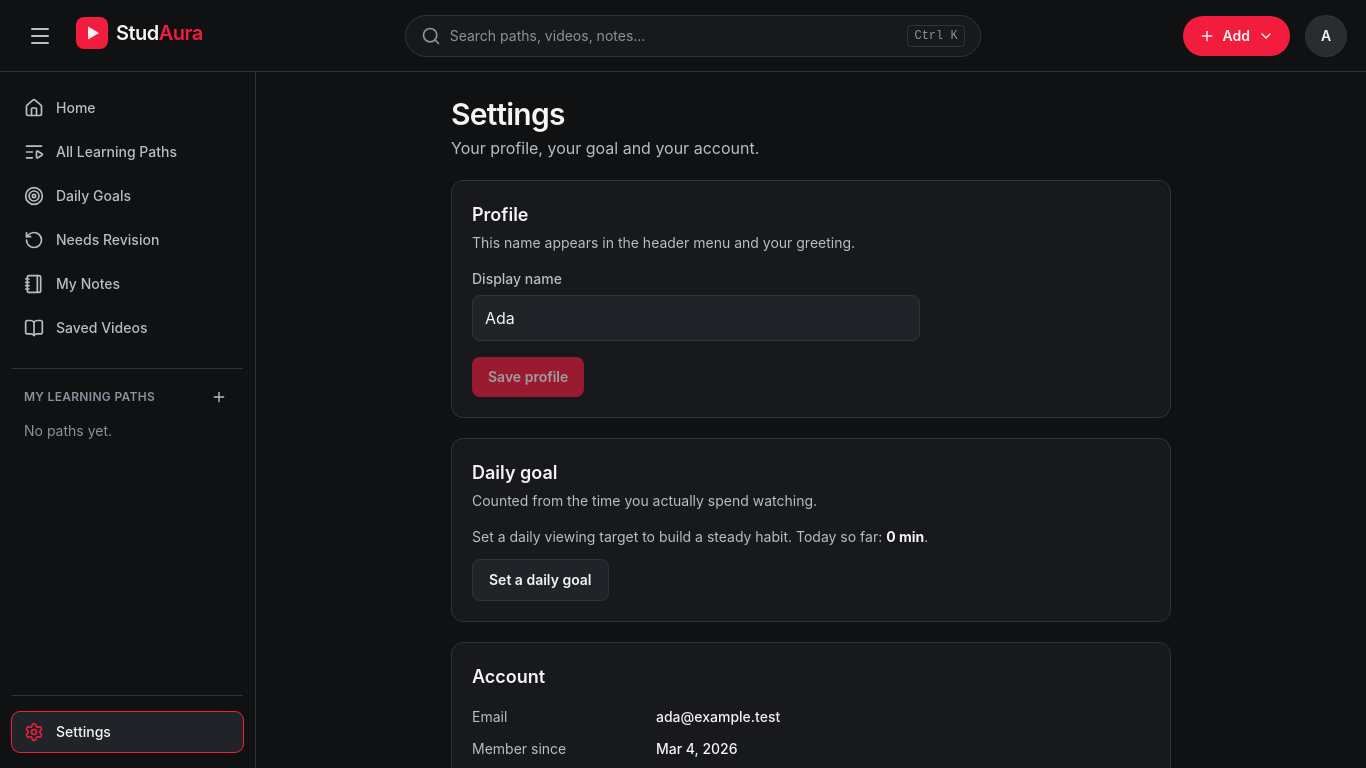
Scenario: settings › saves the display name, confirms it and updates the header menu
Replace the text in the field labelled "Display name" with "  Grace Hopper  " at (696, 318), box [472, 295, 920, 341]
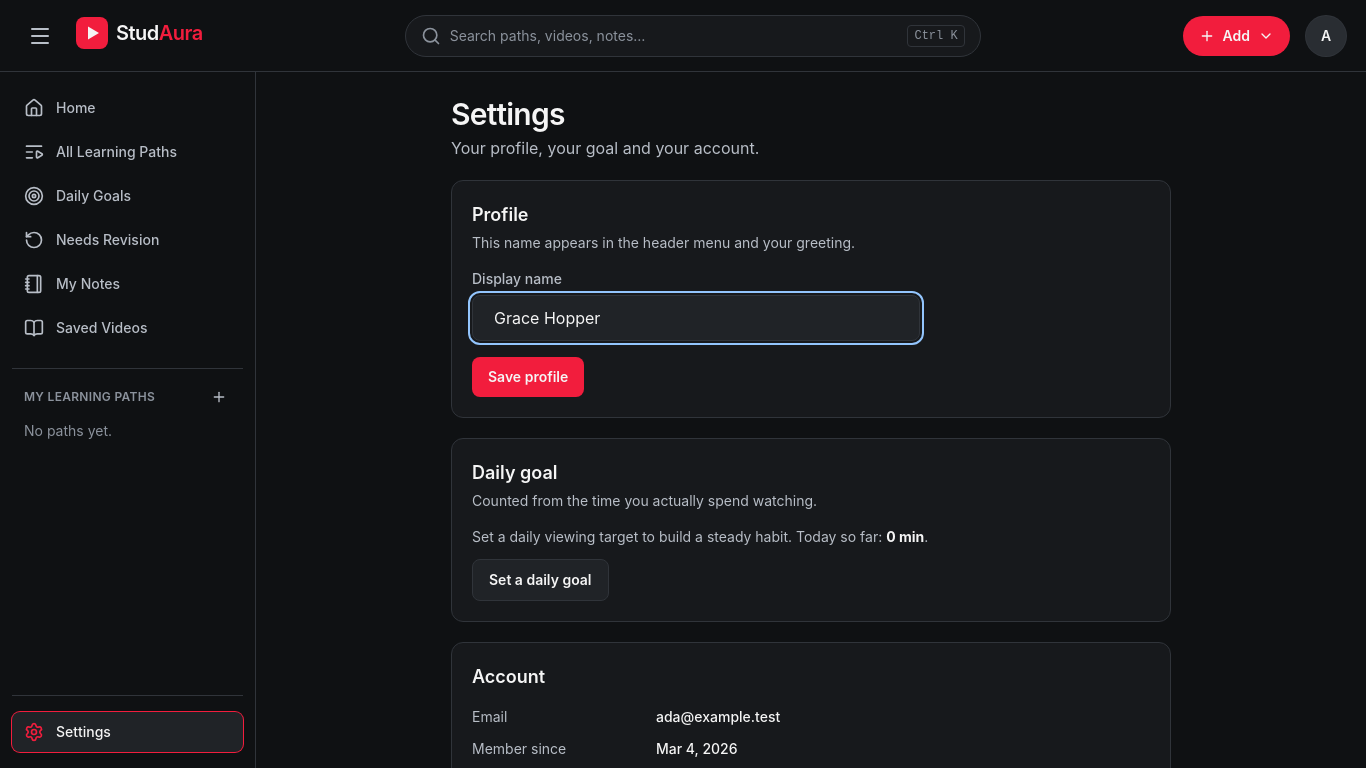
Click the button "Save profile".
click(528, 377)  # box [472, 357, 584, 397]
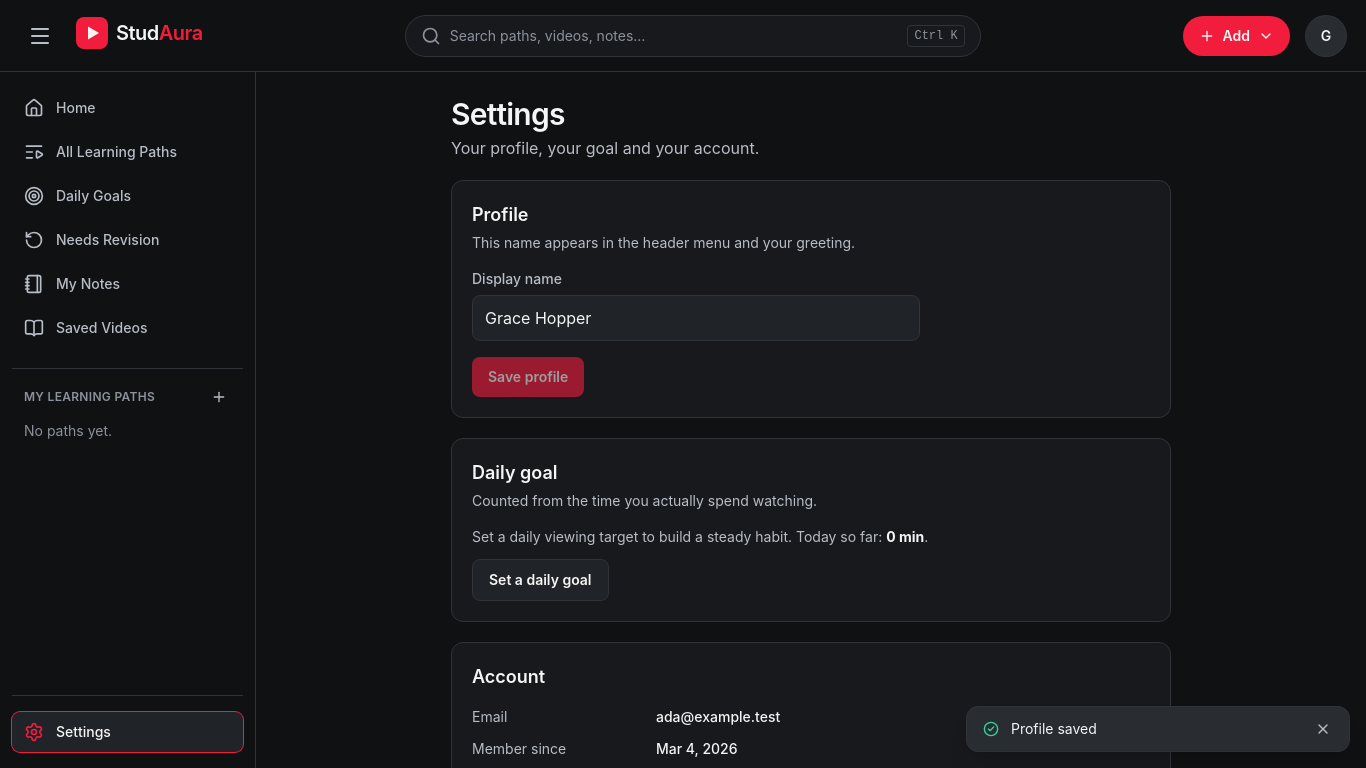
Now the message reads "Profile saved", box [1011, 720, 1097, 737]
Click the button named "Account menu".
click(1326, 36)  # box [1306, 16, 1346, 56]
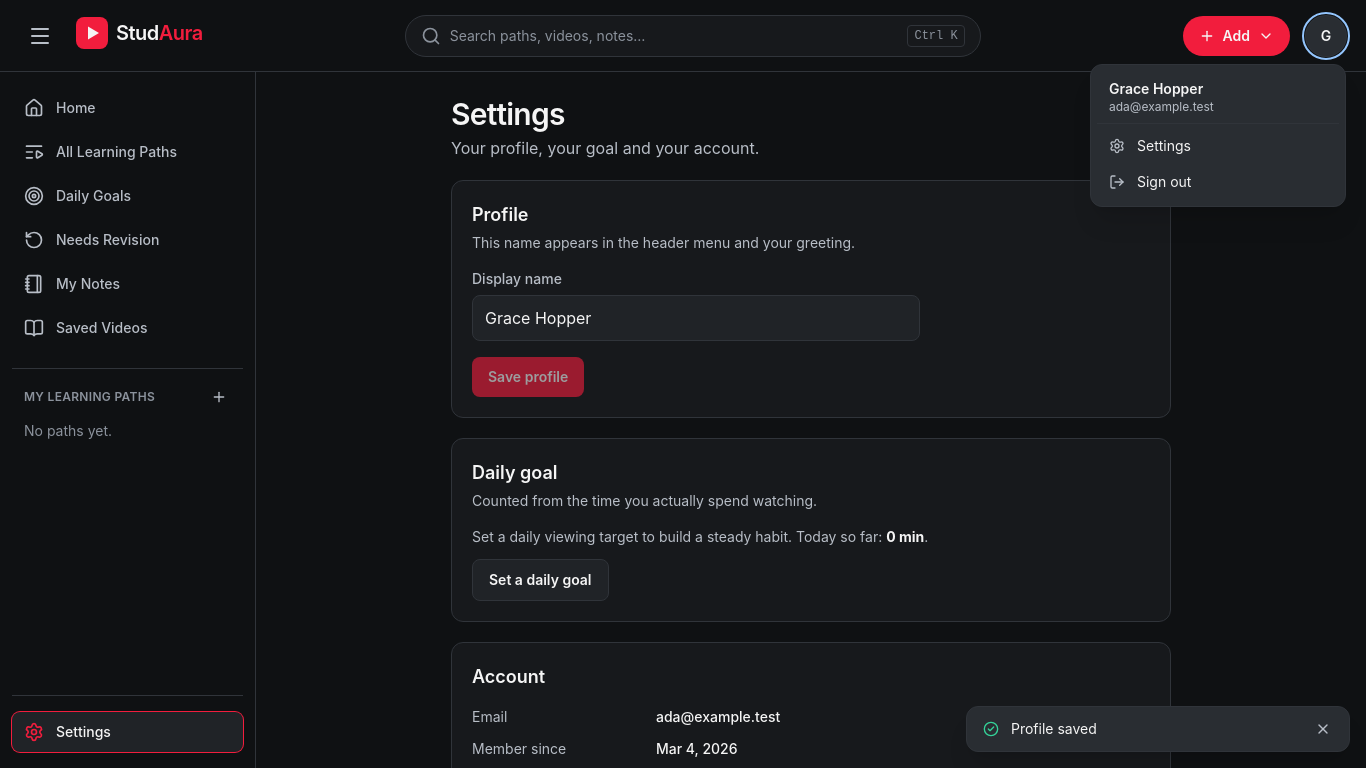
Now the text "Grace Hopper" is shown, box [1109, 80, 1203, 96]
